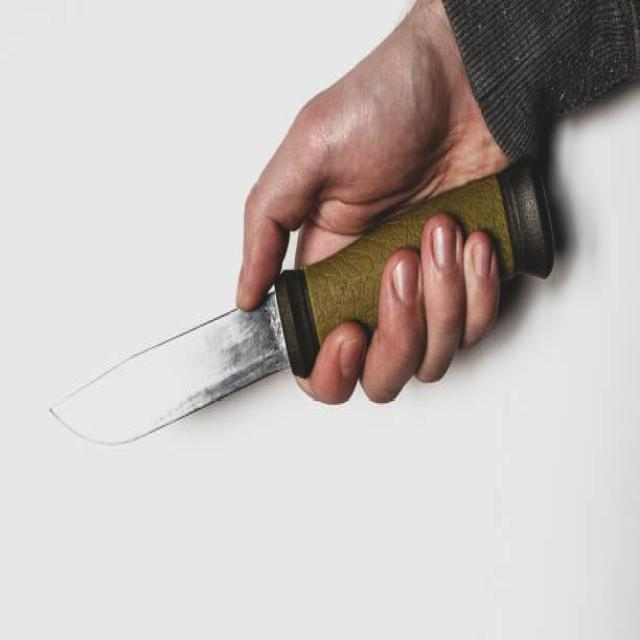faca: (35, 43, 570, 464)
